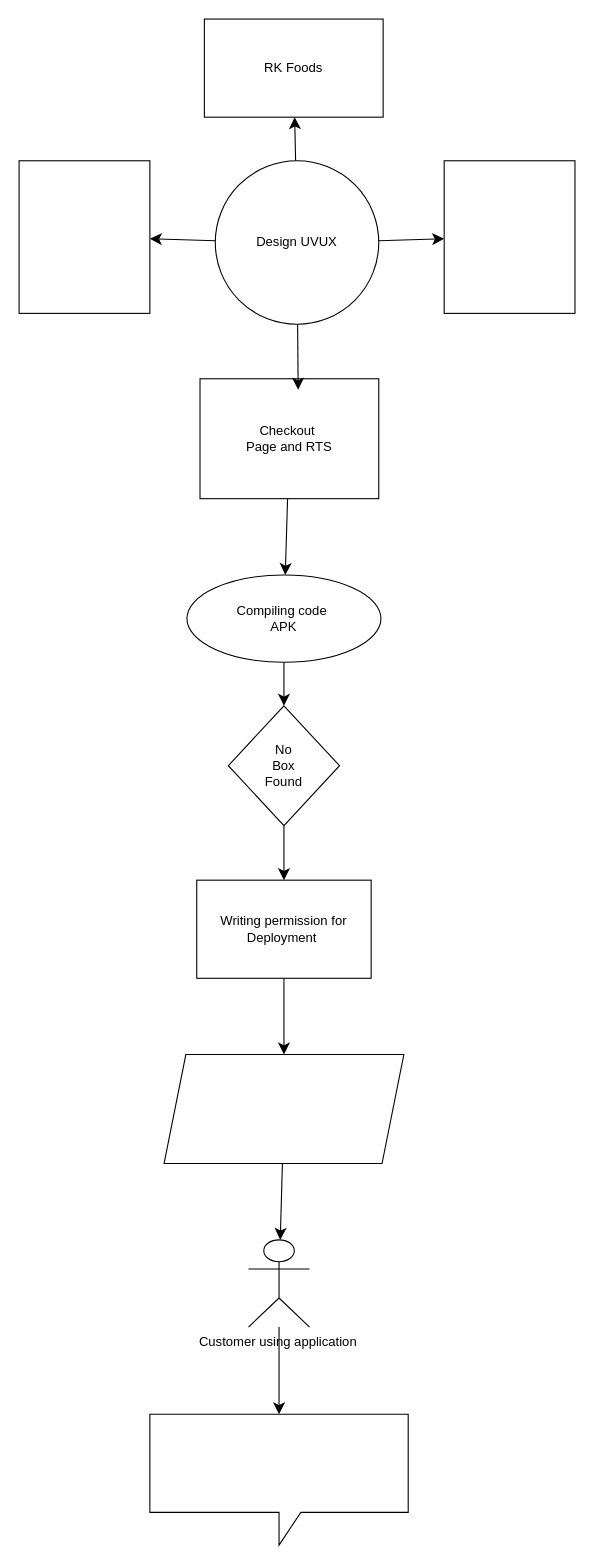
Image size: 594x1564. Some labels were removed from this diagram. The shapes that lost their labels are listed below. From the top down, each one's box as (x1, y1, x2, y2) in pixels, then its label:
(18, 160, 150, 313): Customer Sign In/Sign up page
(443, 160, 575, 313): Listing Resturants And Their cuisines
(163, 1053, 404, 1164): Deploying Application to App Store
(149, 1413, 408, 1545): No Feedback received
